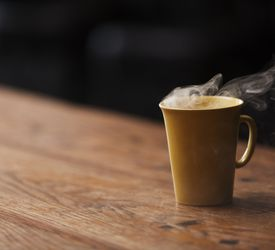cup: (157, 91, 260, 207)
